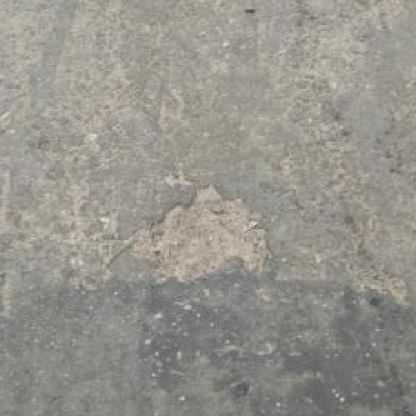pothole: (145, 179, 274, 282)
